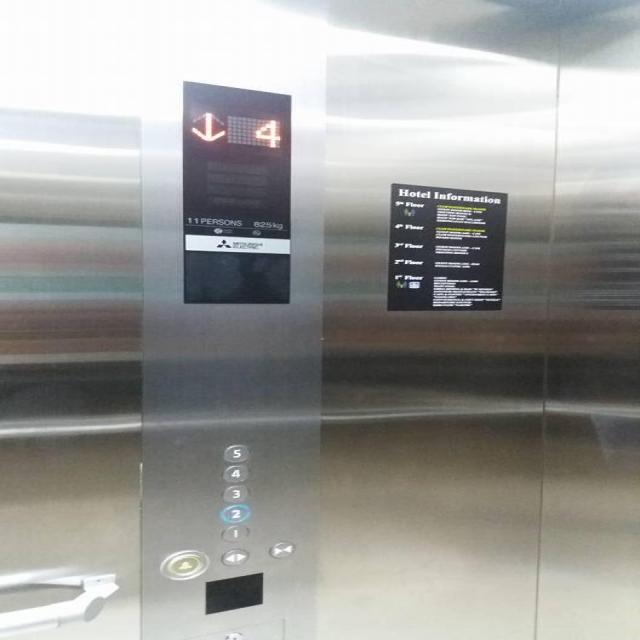1: (218, 524, 251, 541)
2: (218, 502, 251, 522)
3: (220, 484, 250, 502)
4: (220, 463, 252, 482)
5: (220, 442, 250, 462)
alarm: (157, 548, 211, 580)
close: (266, 540, 294, 558)
keyhole: (222, 631, 246, 639)
led: (178, 76, 296, 307), (205, 572, 262, 614)
open: (218, 548, 250, 566)
